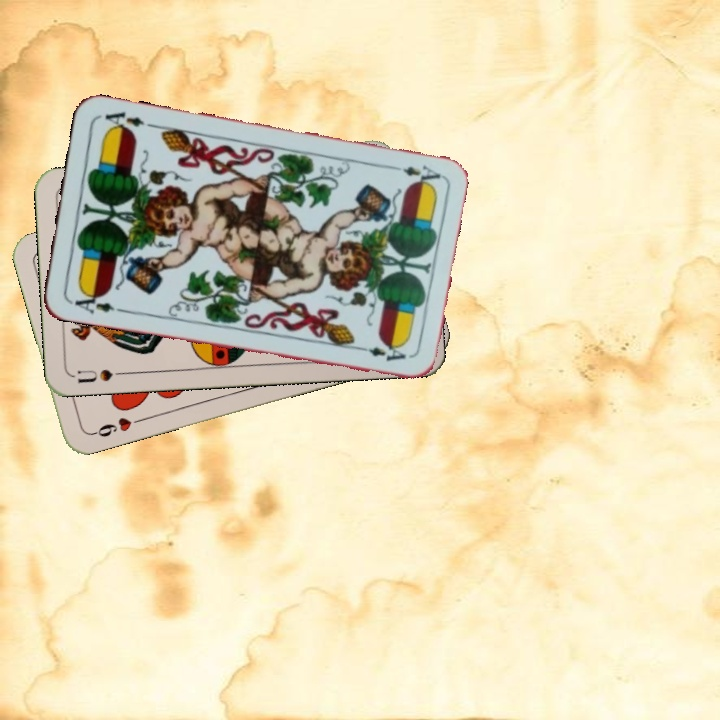EA: (66, 287, 126, 317), (384, 161, 443, 187)
H9: (87, 413, 145, 440)
SU: (73, 365, 129, 386)
